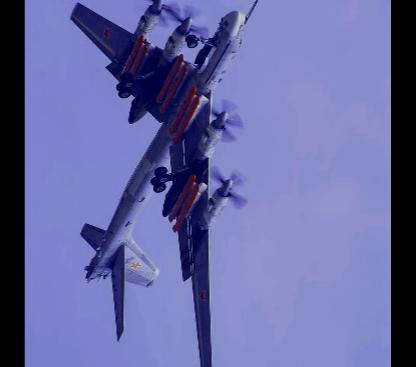Su57: (70, 0, 260, 366)
